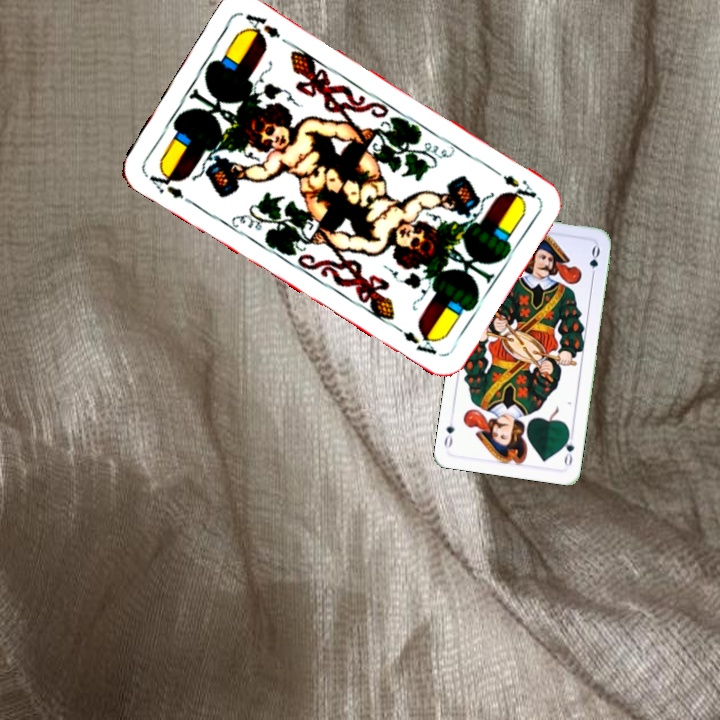EA: (145, 163, 196, 207), (487, 163, 540, 202)
GO: (559, 428, 577, 469)
